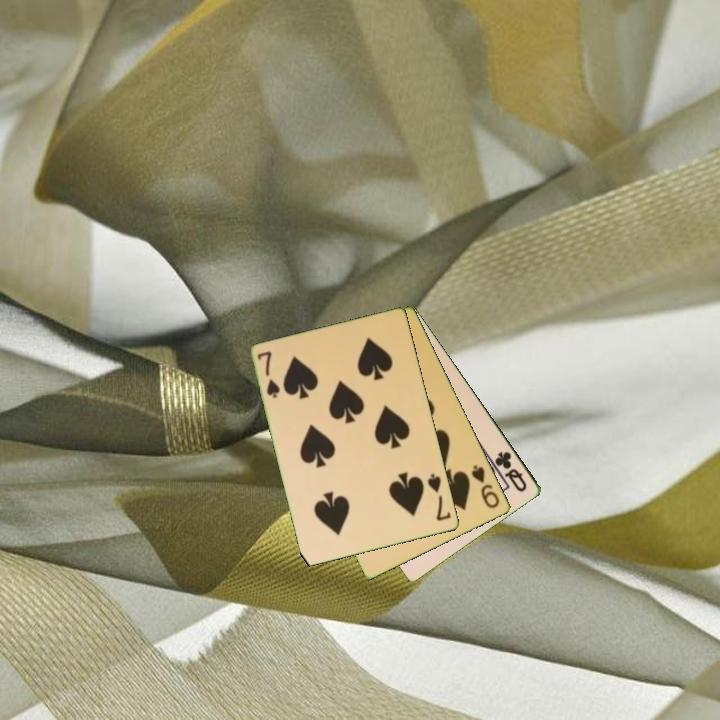7s: (424, 470, 454, 524), (254, 348, 283, 401)
9s: (468, 461, 503, 511)
Qc: (491, 448, 530, 495)
